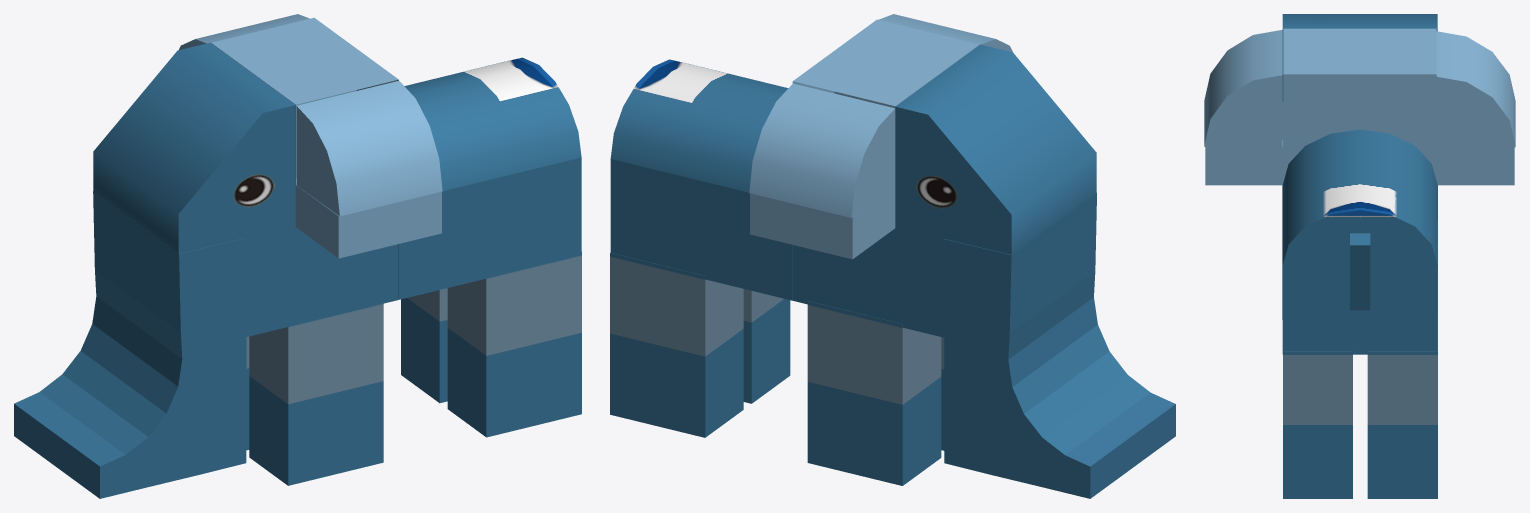
The model's file is character_elephant.fbx.
The picture shows the model from 3 angles, left to right: view 1: azimuth 30°, elevation 25°; view 2: azimuth 150°, elevation 25°; view 3: azimuth 270°, elevation 25°; orthographic projection. The views are drawn at different scales.
Parts seen in each view (by area): view 1: polySurface68; view 2: polySurface68; view 3: polySurface68.
Boxes of the visible parts, x1,y1,x2,y2 form: polySurface68: (14, 14, 581, 498); polySurface68: (610, 14, 1175, 498); polySurface68: (1204, 14, 1515, 498).
Size of the model in its own units: 2.57 by 1.86 by 1.53.
